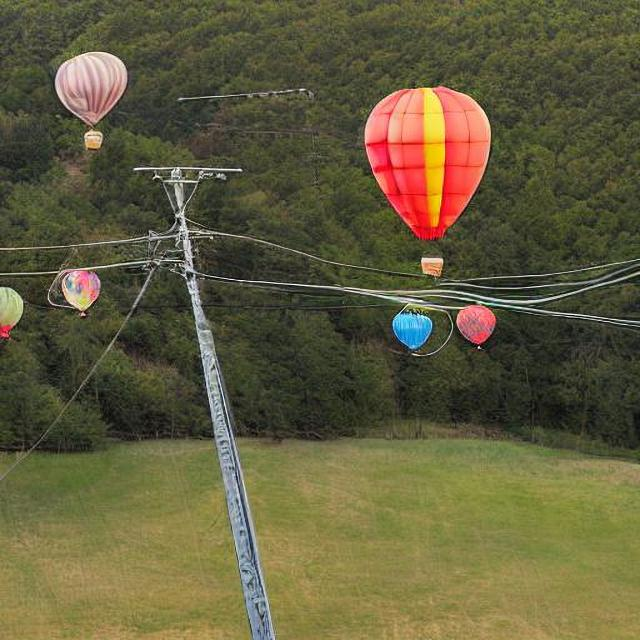balloon: (362, 84, 492, 236), (52, 48, 129, 125), (454, 304, 499, 358), (58, 266, 102, 314), (0, 281, 29, 342)
floating object: (387, 307, 441, 356), (419, 256, 444, 278)
